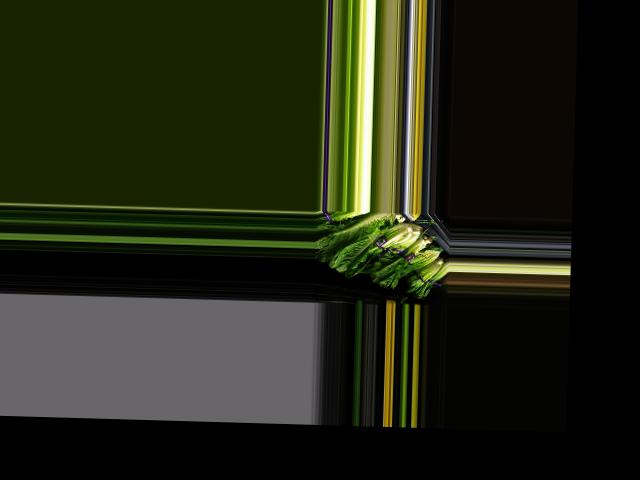lettuce: (316, 214, 394, 270)
